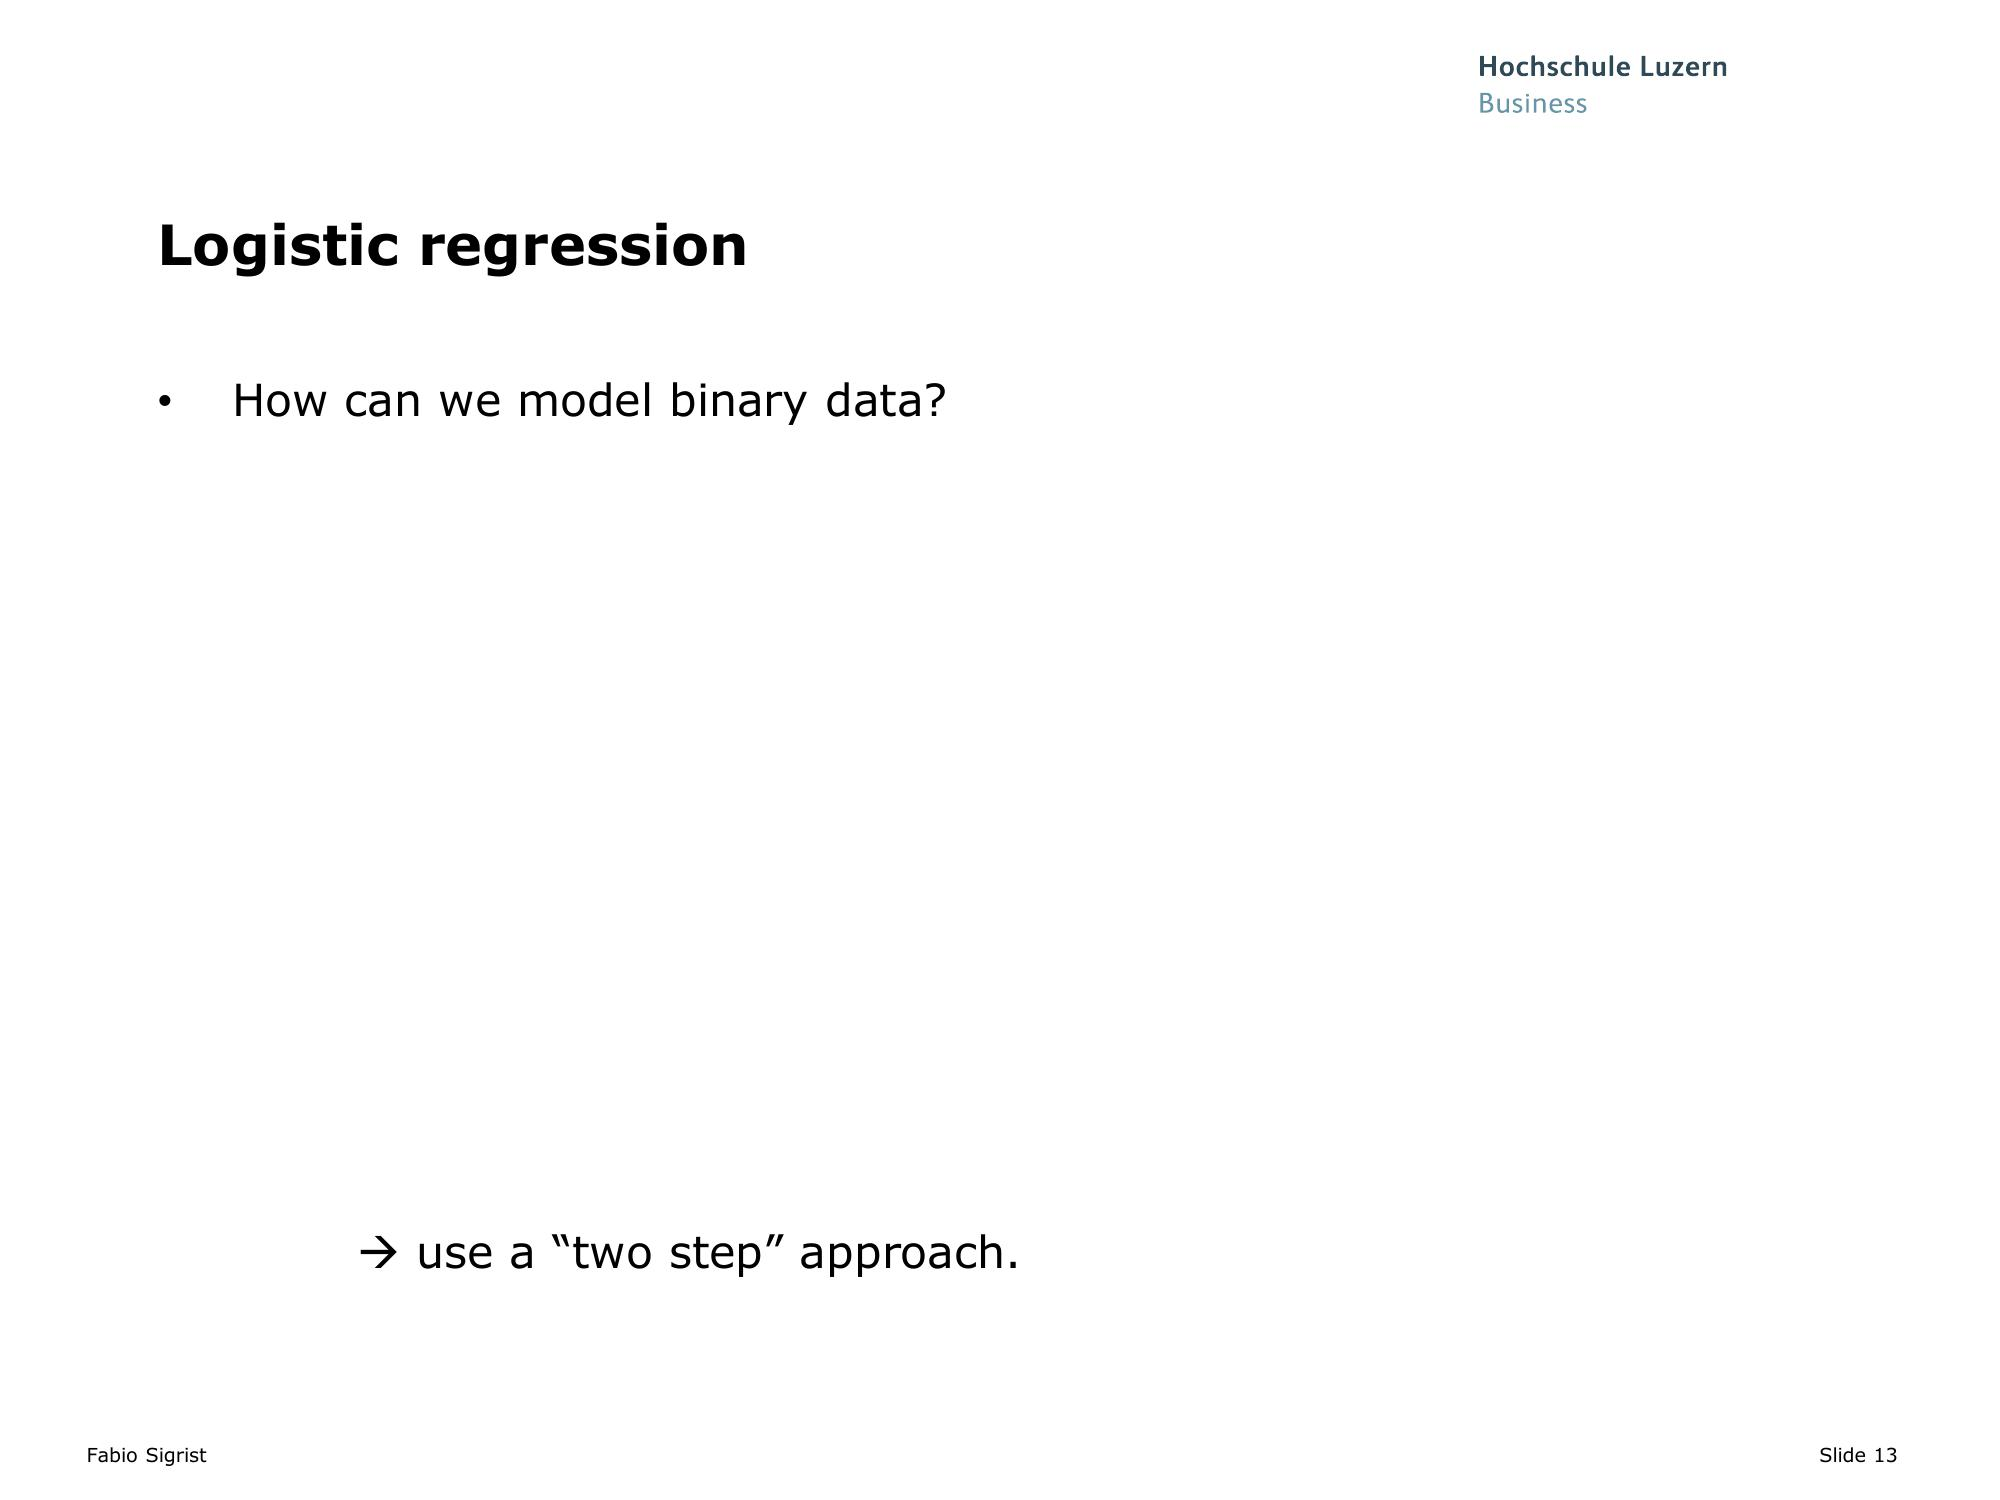Title: (128, 206, 761, 295)
